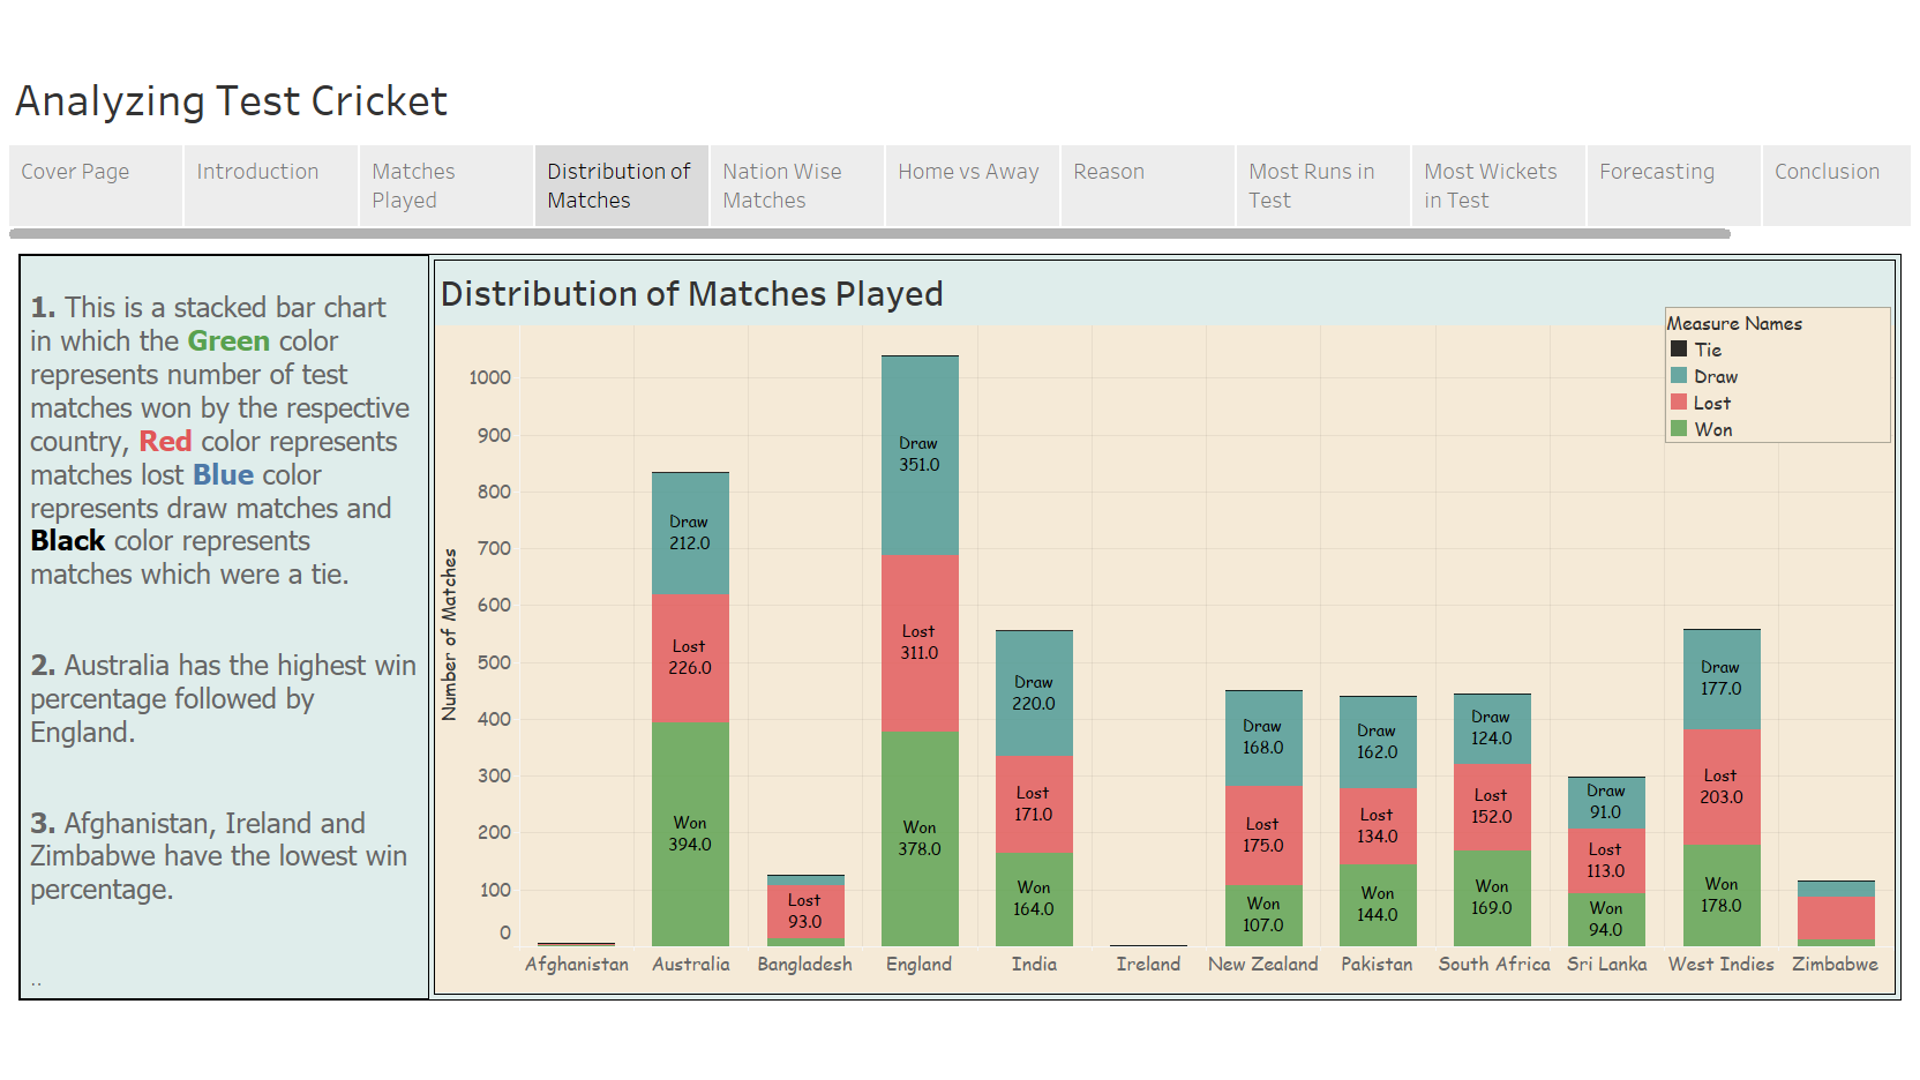

The dashboard page shown, as its layout file describes it:
{"tool":"tableau","page":{"name":"slide 2 text","canvas":[1000,1000],"units":"permille","ordinal":11},"visuals":[{"type":"worksheet","title":"Distribution of Matches Played","mark":"Automatic","cols":["F1"],"box":[220.6,10.8,774,978.3]},{"type":"text","box":[6,12,214,938.6]},{"type":"legend","title":"Distribution of Matches Played","param":"[federated.0zso2th00zmv1h1cisio41f9zazf].[:Measure Names]","box":[870.9,81.9,118.7,231.3]}]}

Visuals, with their boxes on the dashboard's canvas, which has no fixed pixel size, in thousandths of its width and height (x1, y1, x2, y2). These are canvas units, not pixel positions in the 1920x1080 screenshot, which may show the page scaled, cropped or inside an application window:
"Distribution of Matches Played" worksheet: Rect(221, 11, 995, 989)
text: Rect(6, 12, 220, 951)
"Distribution of Matches Played" legend: Rect(871, 82, 990, 313)
